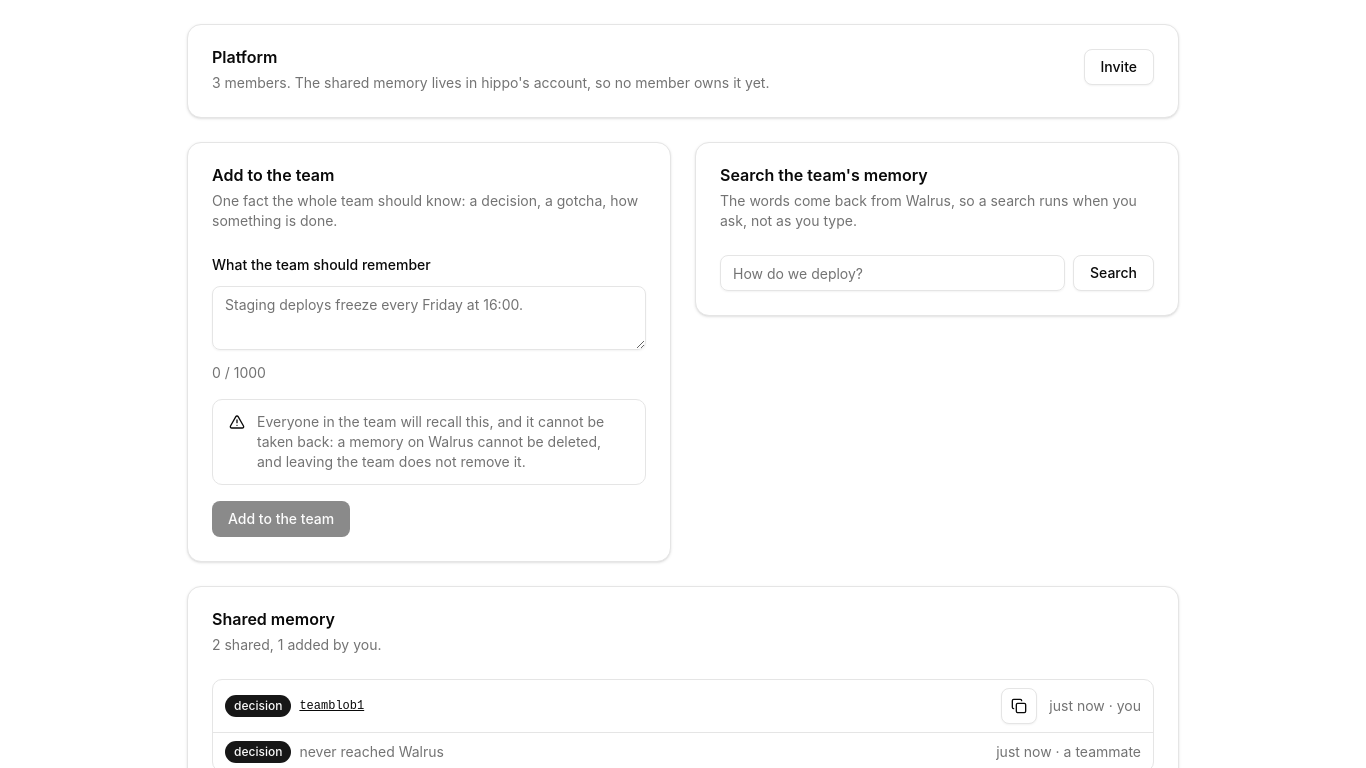
Test: team page › says so when a team search finds nothing, and passes on a failure sentence
Type "sailing" into the field named "Search the team's memory" at (892, 273), box x1=720 y1=255 x2=1065 y2=291
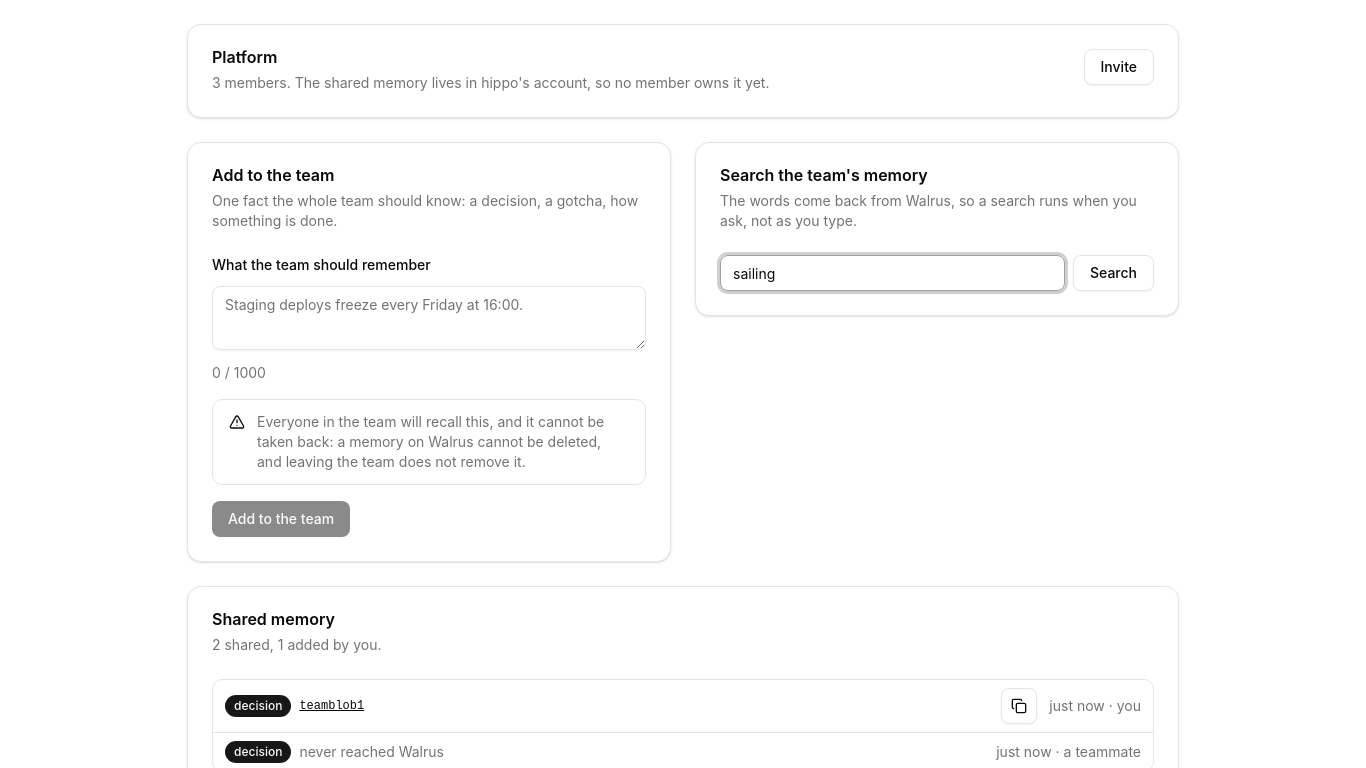
Click the button "Search" at (1114, 273), box x1=1073 y1=255 x2=1154 y2=291
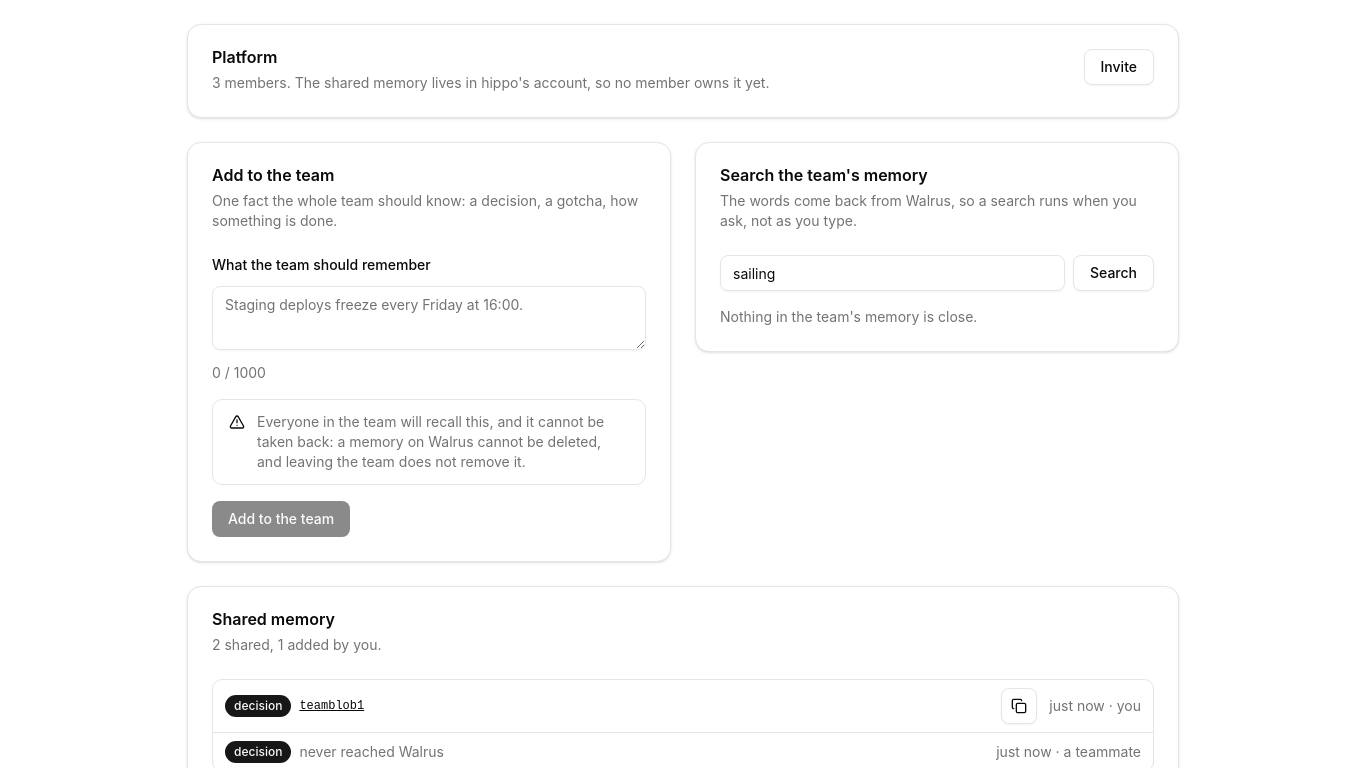
expect the text "Nothing in the team's memory is close." is shown: met, box x1=720 y1=308 x2=977 y2=325
Click the button "Search" at (1114, 273), box x1=1073 y1=255 x2=1154 y2=291
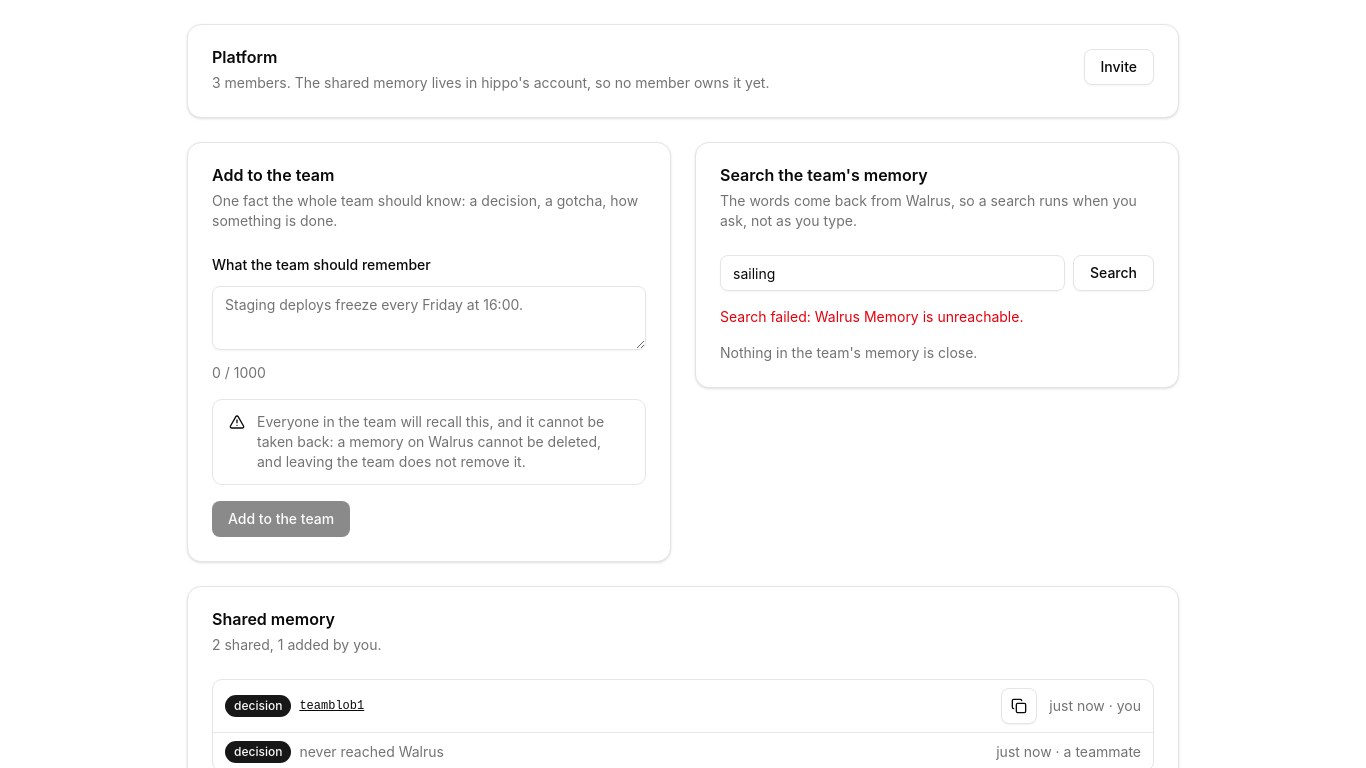
expect the text "Search failed: Walrus Memory is unreachable." is shown: met, box x1=720 y1=308 x2=1024 y2=325
